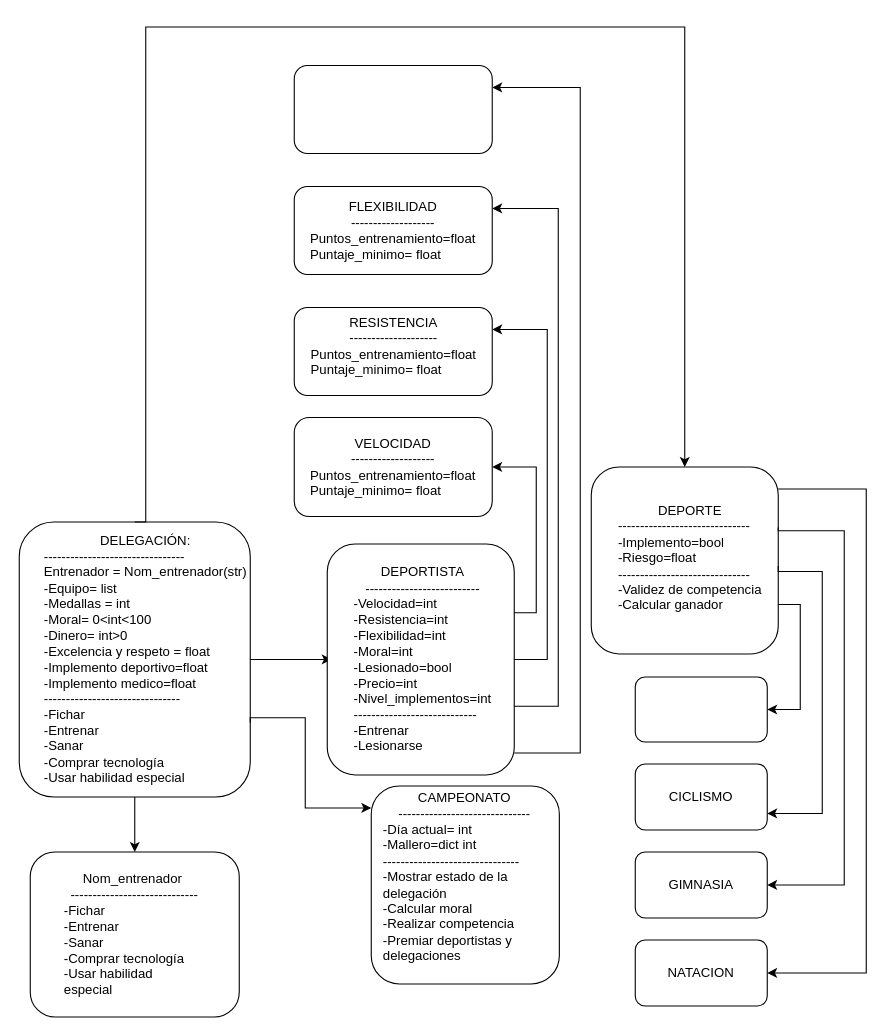
Some shapes in this 894 by 1036 pixel diagram are drawn without their labels. The shapes that lost their labels are listed below. From the top down, each one's centre as x and y in pixels, then its label:
the point at 392,108: MORAL ------------------- Puntos_entrenamiento=float Puntaje_minimo= float
the point at 700,709: ATLETISMO
